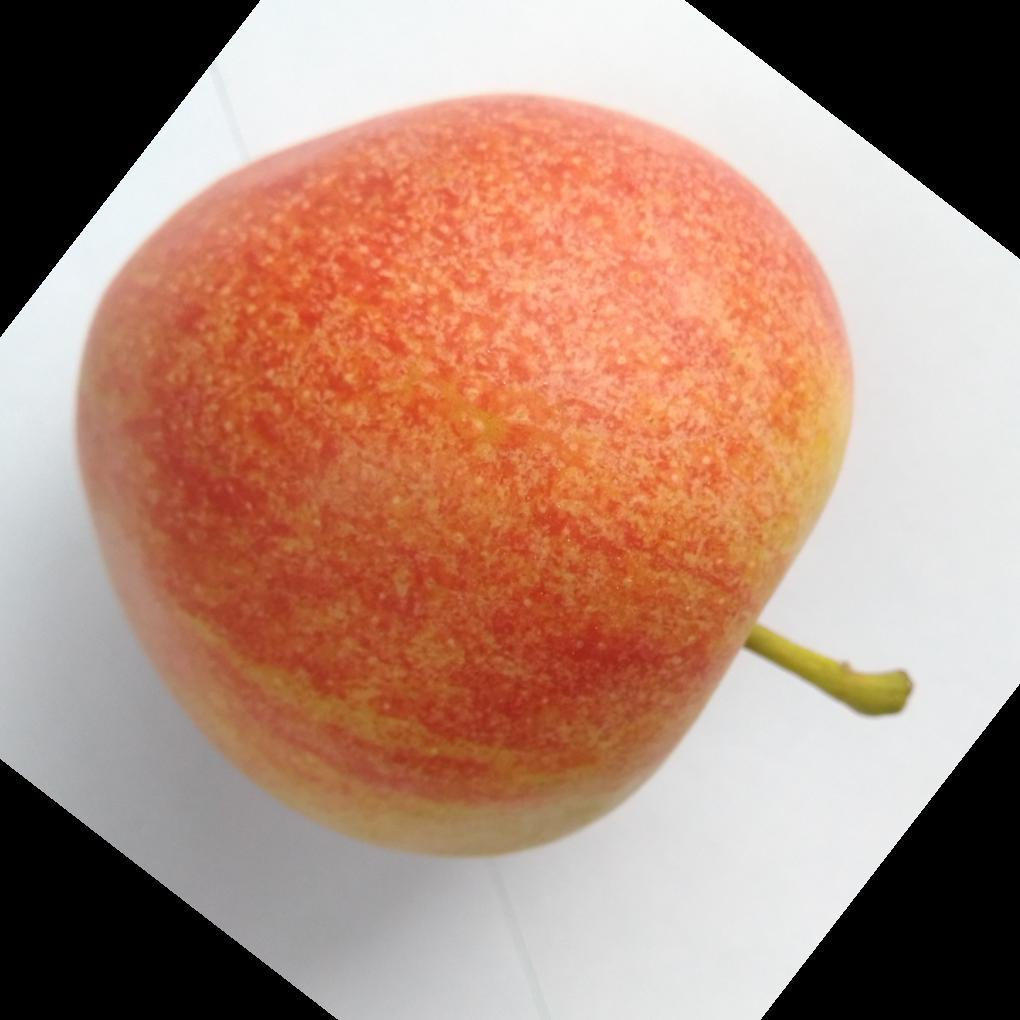FreshGuava: (70, 93, 857, 864)
